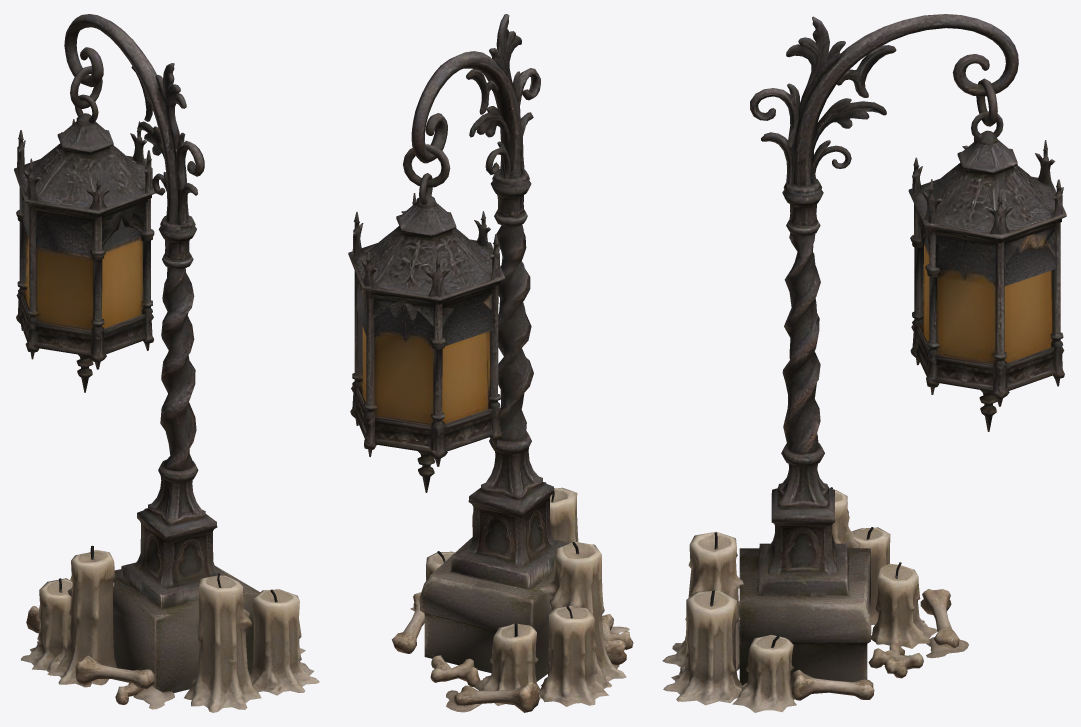
The model's file is lantern.glb.
The picture shows the model from 3 angles, left to right: view 1: azimuth 30°, elevation 25°; view 2: azimuth 150°, elevation 25°; view 3: azimuth 270°, elevation 25°; orthographic projection. The views are drawn at different scales.
Visible parts, largest first — view 1: tripo_node_9bf815d1-dac9-40a3-9ca2-123a650de9a7; view 2: tripo_node_9bf815d1-dac9-40a3-9ca2-123a650de9a7; view 3: tripo_node_9bf815d1-dac9-40a3-9ca2-123a650de9a7.
Part boxes in pixels (x1,y1,x2,y2): tripo_node_9bf815d1-dac9-40a3-9ca2-123a650de9a7: [14, 14, 319, 712]; tripo_node_9bf815d1-dac9-40a3-9ca2-123a650de9a7: [348, 14, 633, 712]; tripo_node_9bf815d1-dac9-40a3-9ca2-123a650de9a7: [662, 14, 1066, 712].
Bounding box in the file's own units: 0.3911 × 0.9995 × 0.5649.
1 material, 1 textured.
